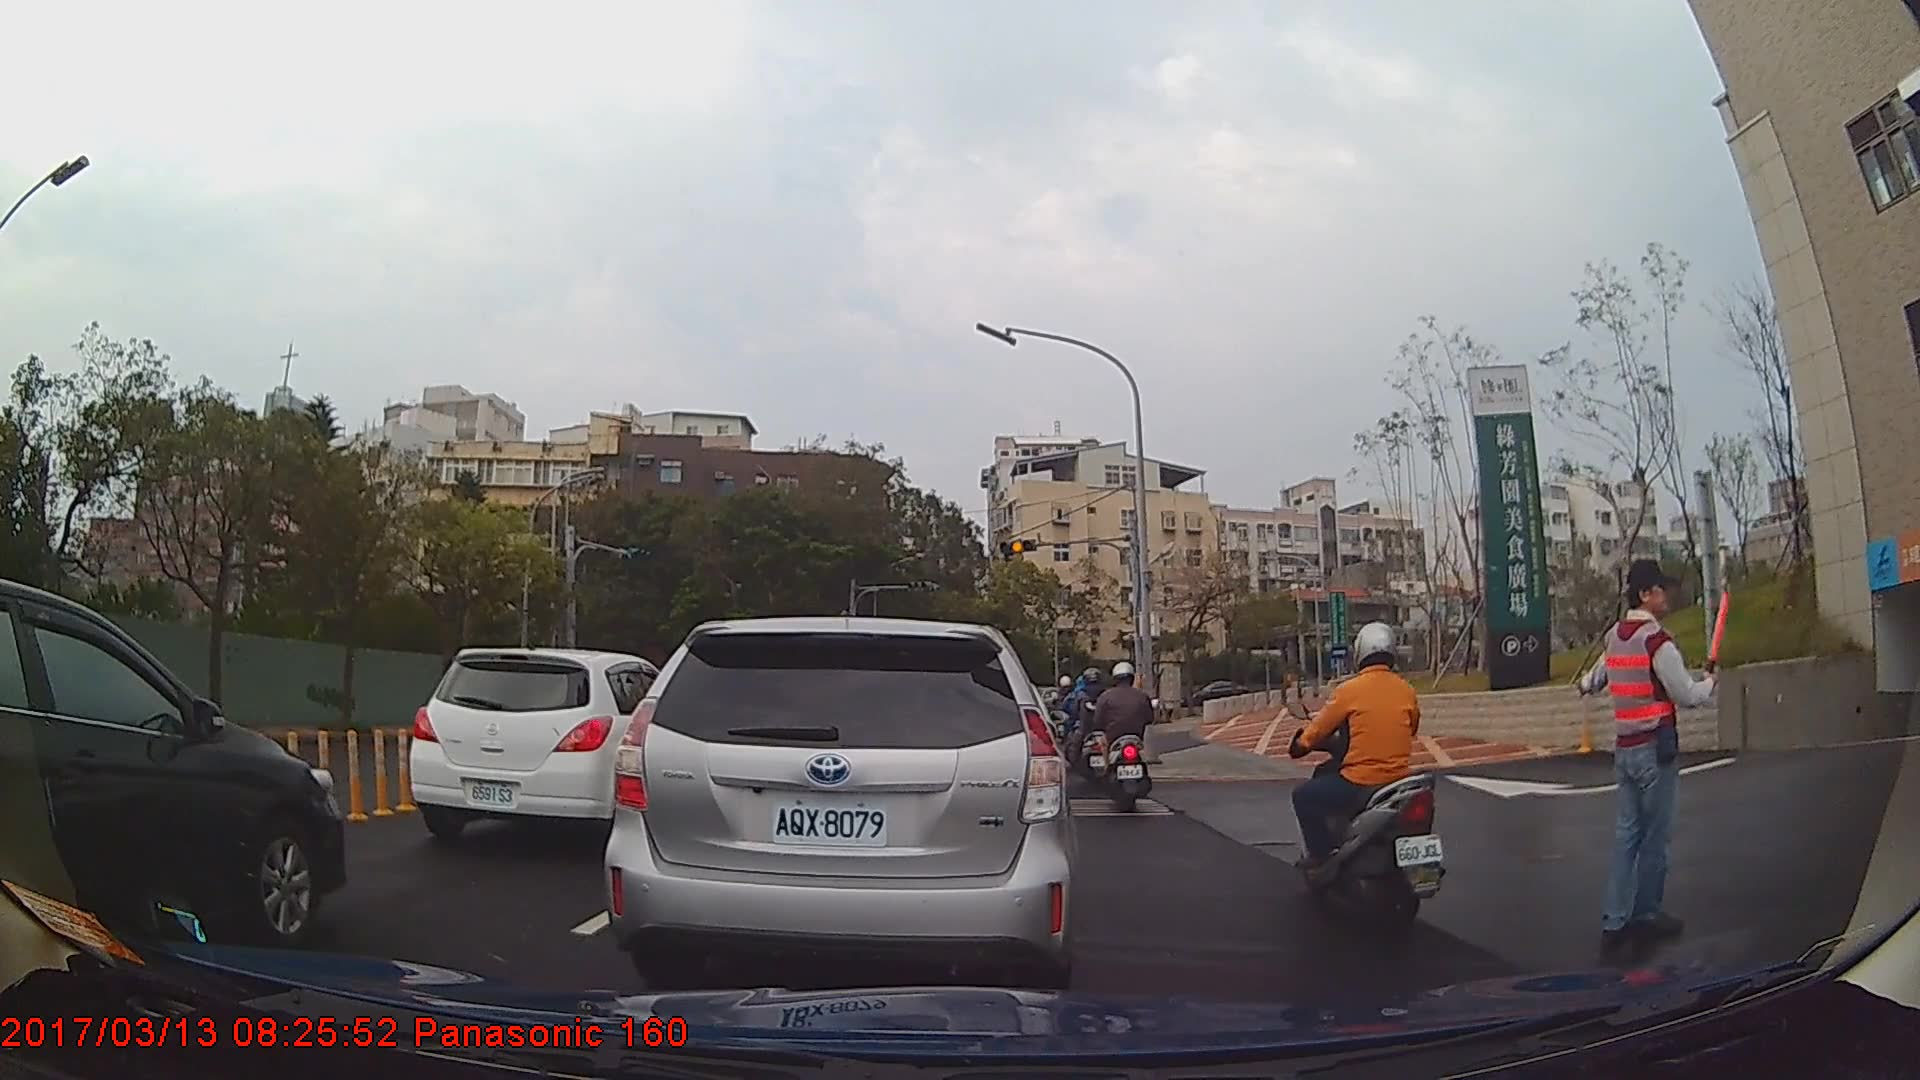pedestrian: (1578, 559, 1735, 952)
rider: (1288, 618, 1449, 929), (1094, 655, 1163, 823), (1070, 668, 1112, 783), (1045, 674, 1077, 752)
vehicle: (603, 617, 1073, 983), (0, 574, 347, 956), (409, 647, 716, 845), (1182, 677, 1250, 710)
